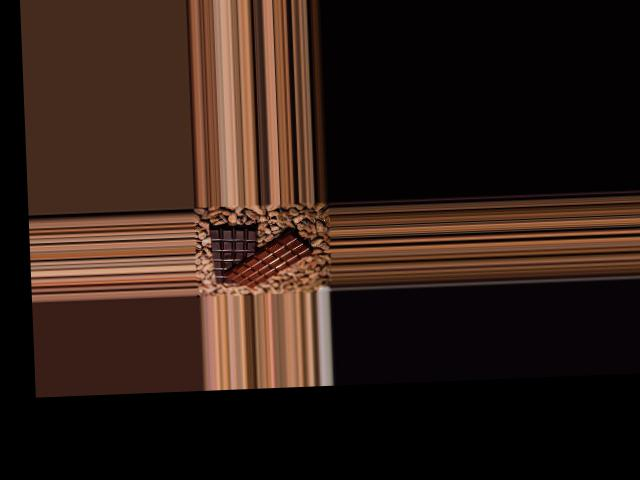chocolate: (203, 220, 259, 287)
